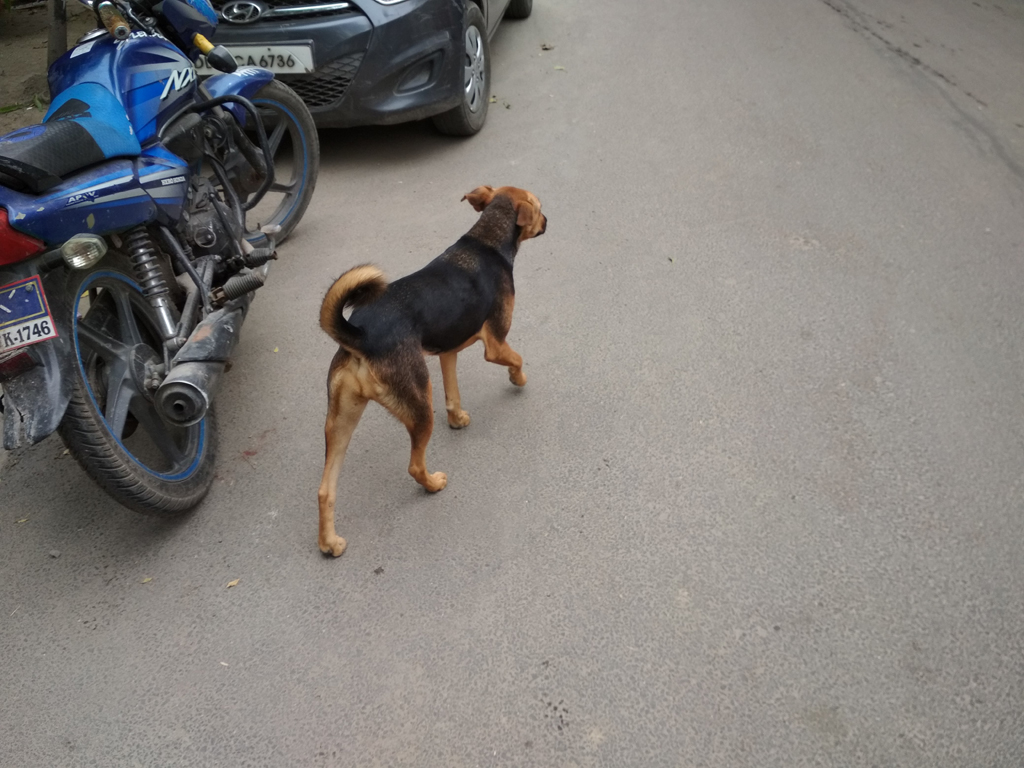dog: (317, 185, 548, 559)
